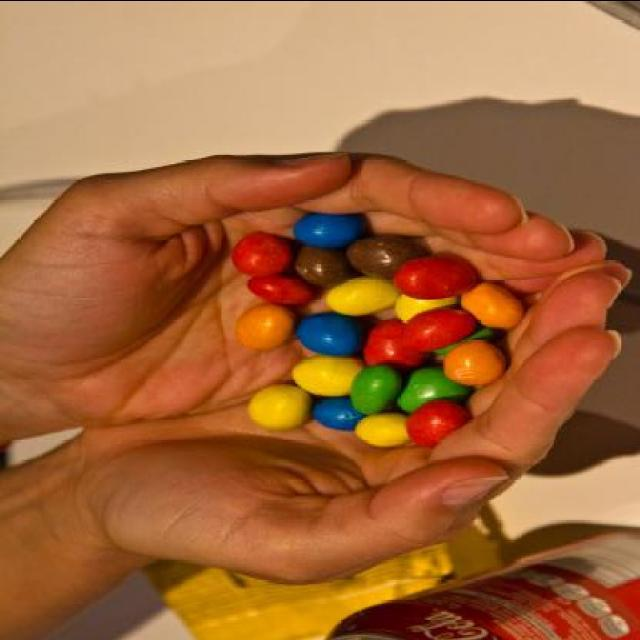Candy: (232, 211, 526, 449), (284, 202, 378, 250)
